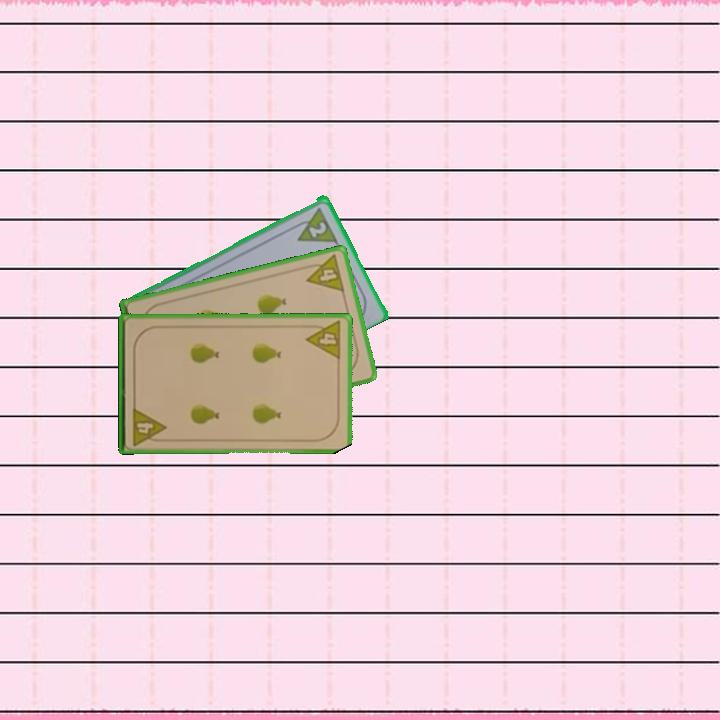2p: (305, 217, 330, 240)
4p: (300, 251, 347, 295), (303, 318, 344, 362), (129, 404, 168, 448)
